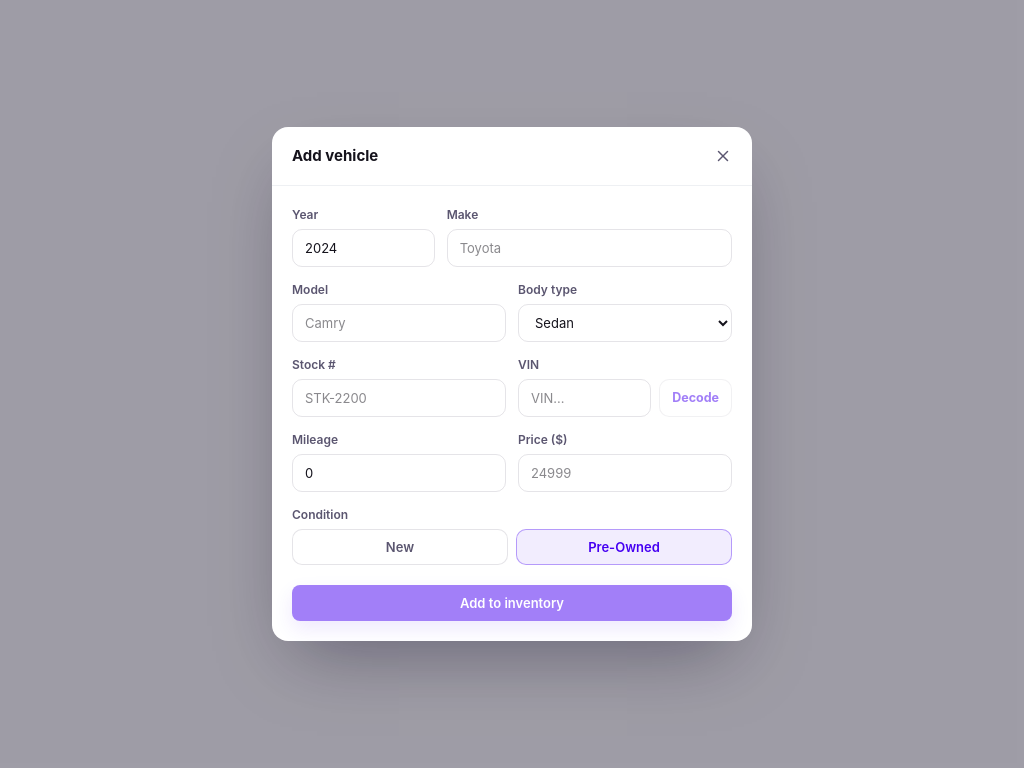
Test: AddVehicleModal — VIN decode › shows the real error message inline on an invalid VIN, without crashing
Type "NOTAVALIDVIN" into the field with placeholder "VIN..." at (585, 398), box [518, 379, 651, 417]
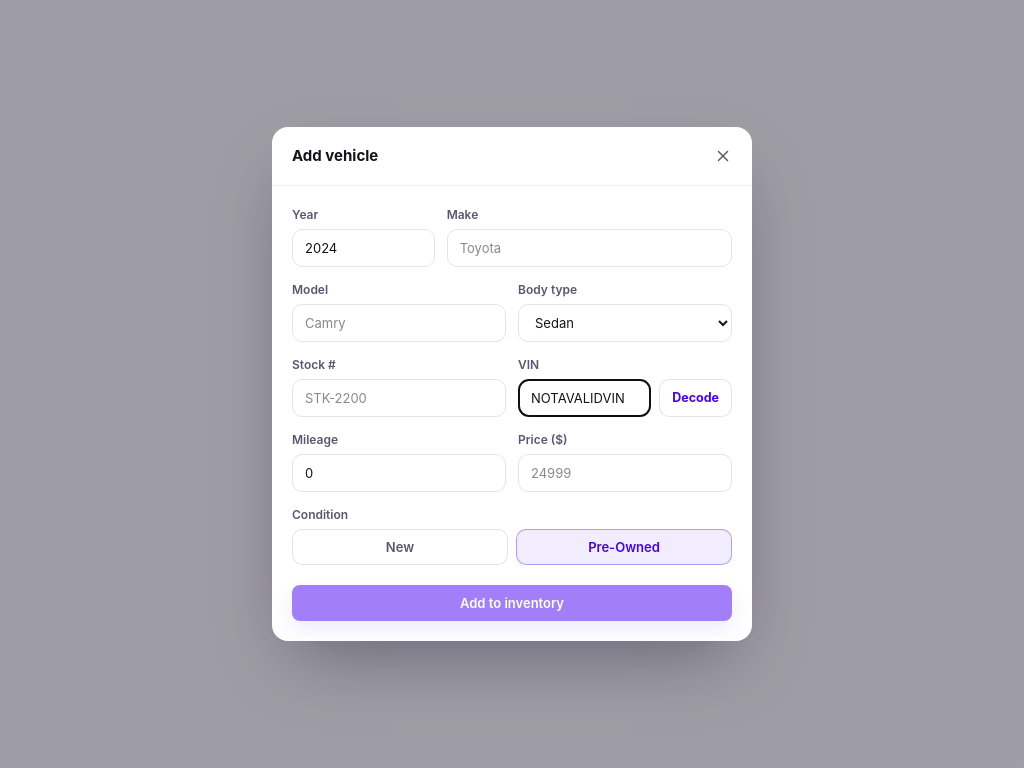
Click the button "Decode" at (696, 398), box [659, 379, 732, 417]
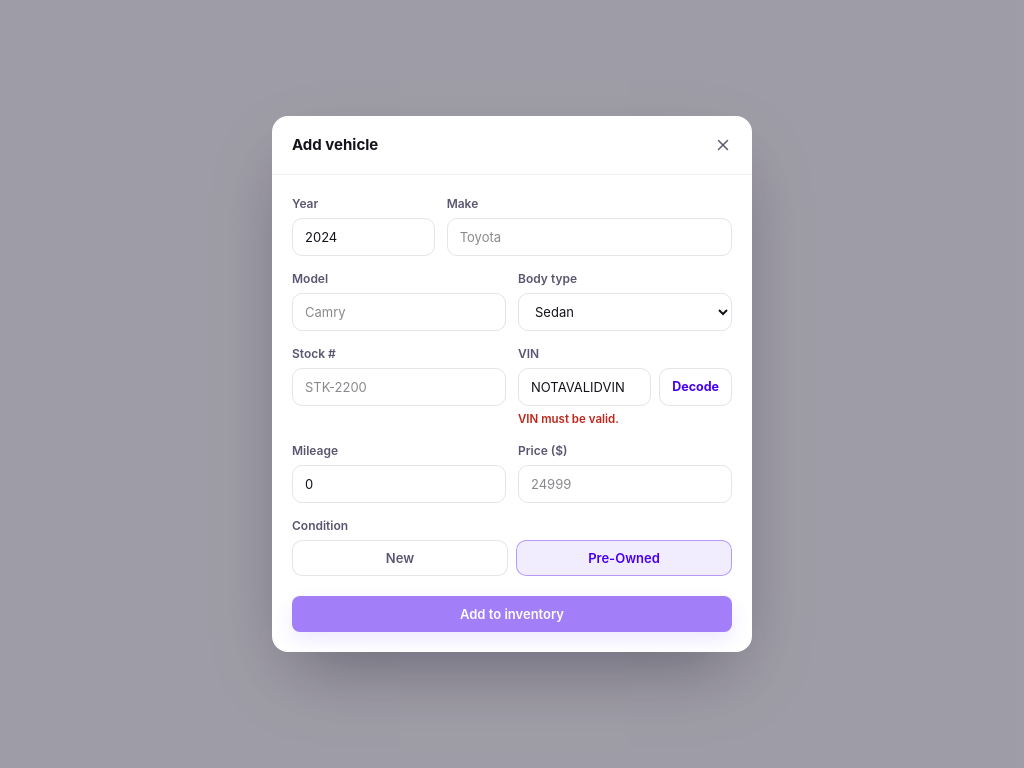
Now the text "VIN must be valid." is shown, box [518, 412, 619, 426]
